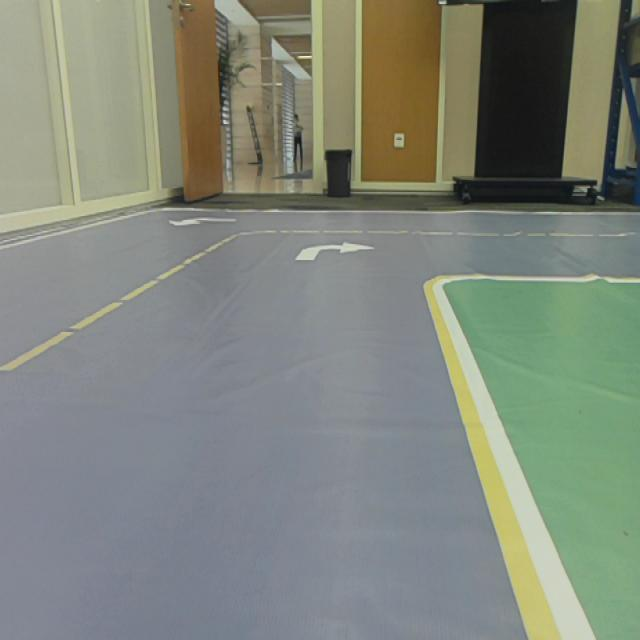left_lane: (0, 234, 236, 380)
right_lane: (424, 285, 563, 638)
